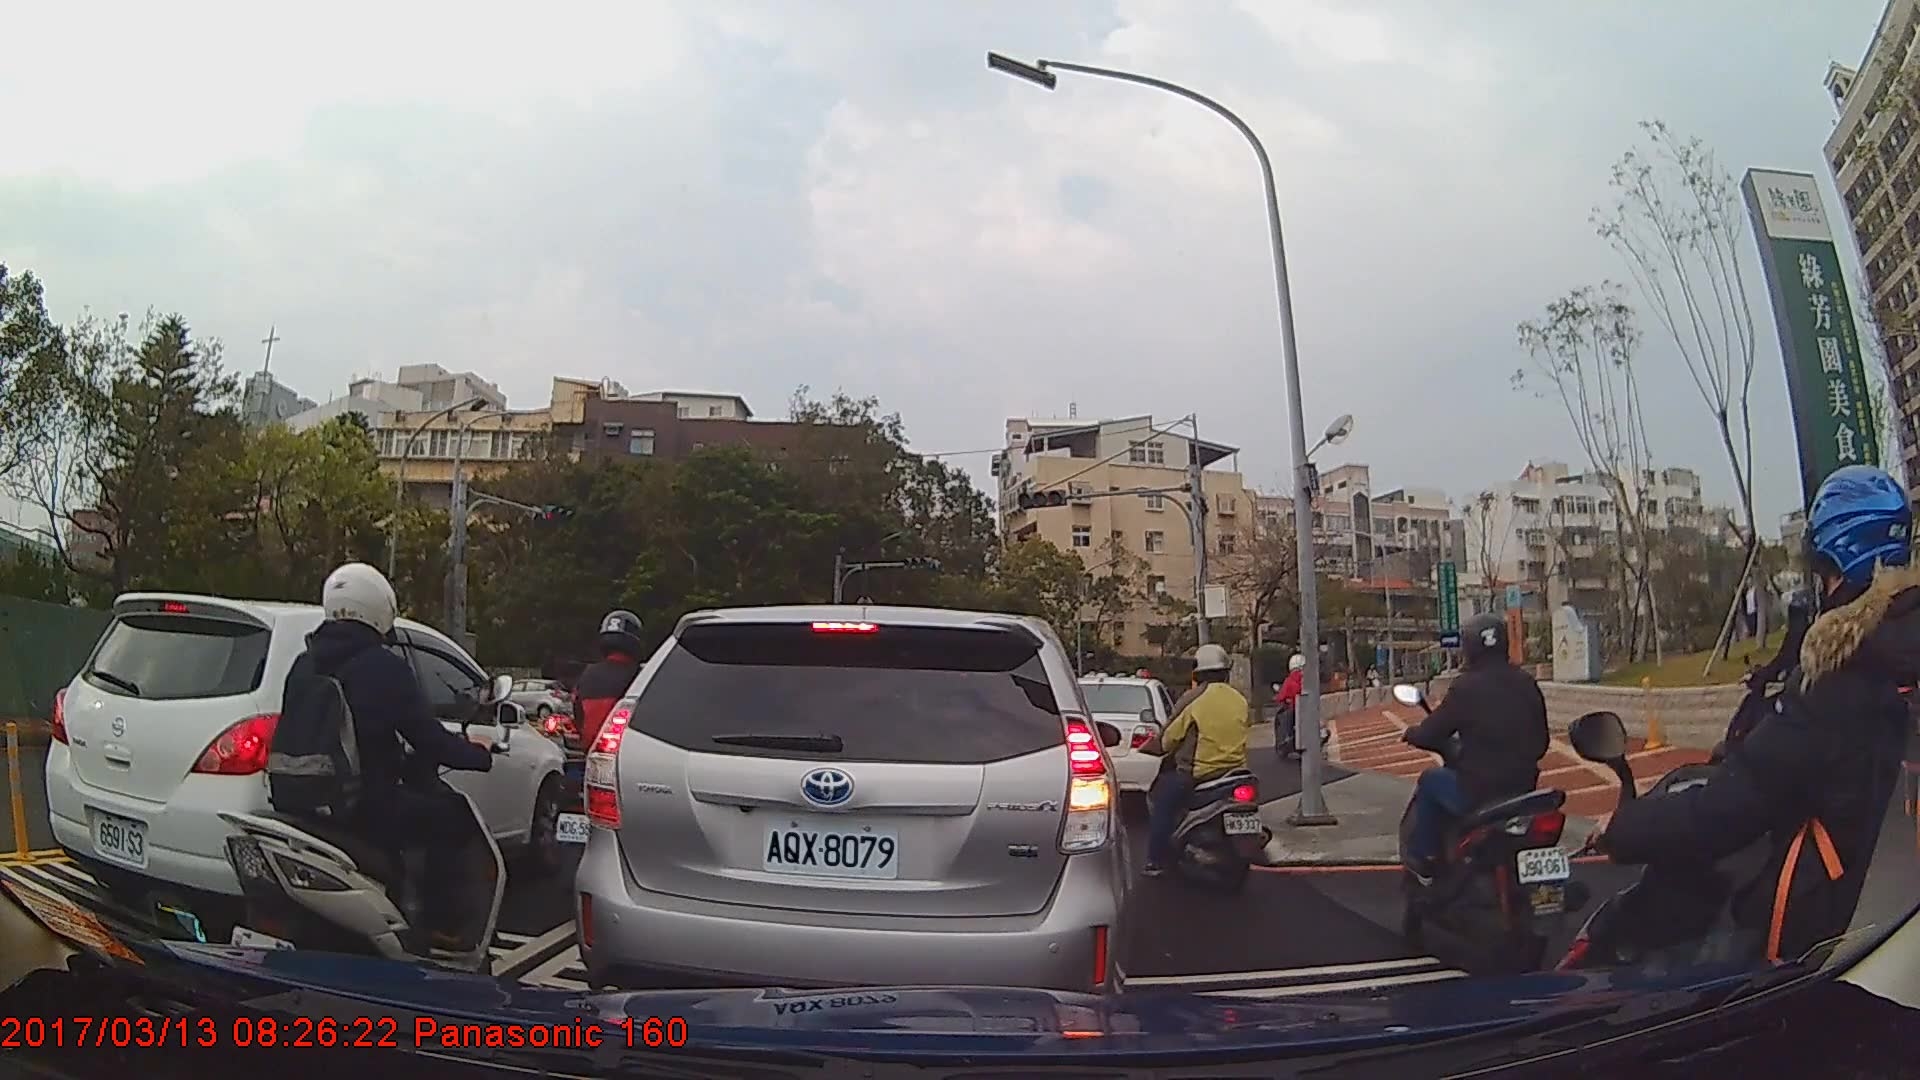pedestrian: (1732, 567, 1773, 646), (1722, 580, 1758, 648)
rider: (1538, 465, 1920, 1075), (208, 556, 513, 1016), (1385, 611, 1587, 966), (544, 607, 675, 917), (1140, 640, 1267, 890), (1274, 654, 1332, 766)
vehicle: (569, 602, 1133, 1034), (41, 590, 571, 928), (1061, 675, 1184, 809), (495, 677, 571, 722)
